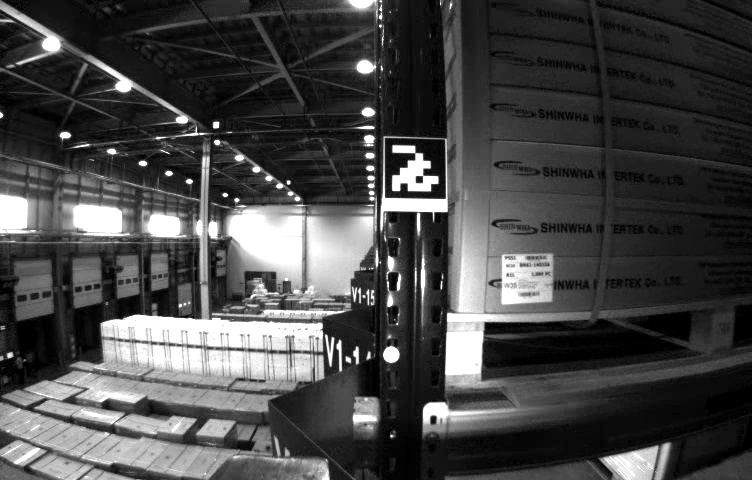True Barcode: (498, 250, 554, 304)
